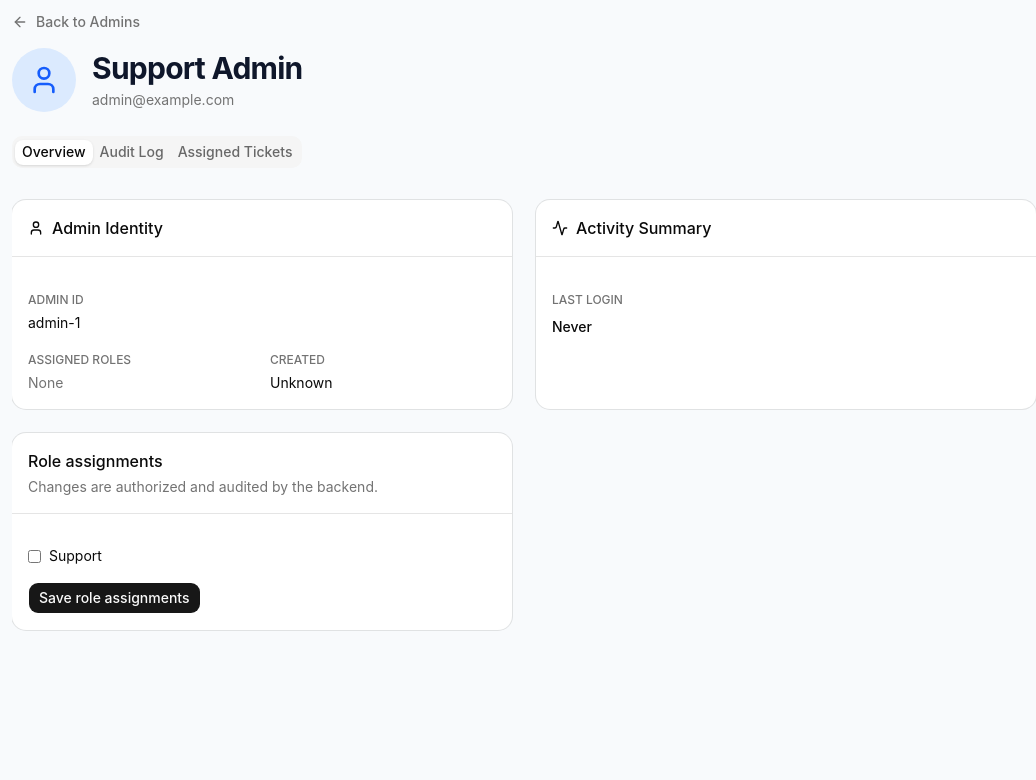
Admin detail support tickets › renders the canonical empty state
Click the tab "Assigned Tickets" at [235, 152], box x1=171 y1=140 x2=300 y2=164
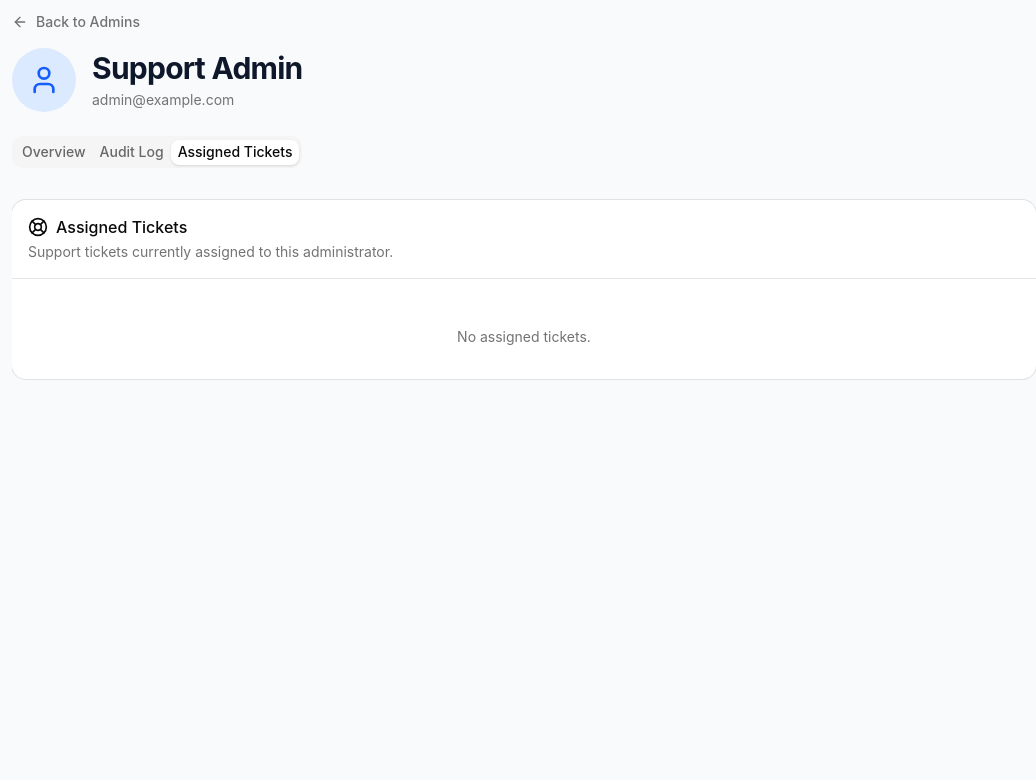
Check: the text "No assigned tickets." is shown, box x1=457 y1=328 x2=591 y2=345
